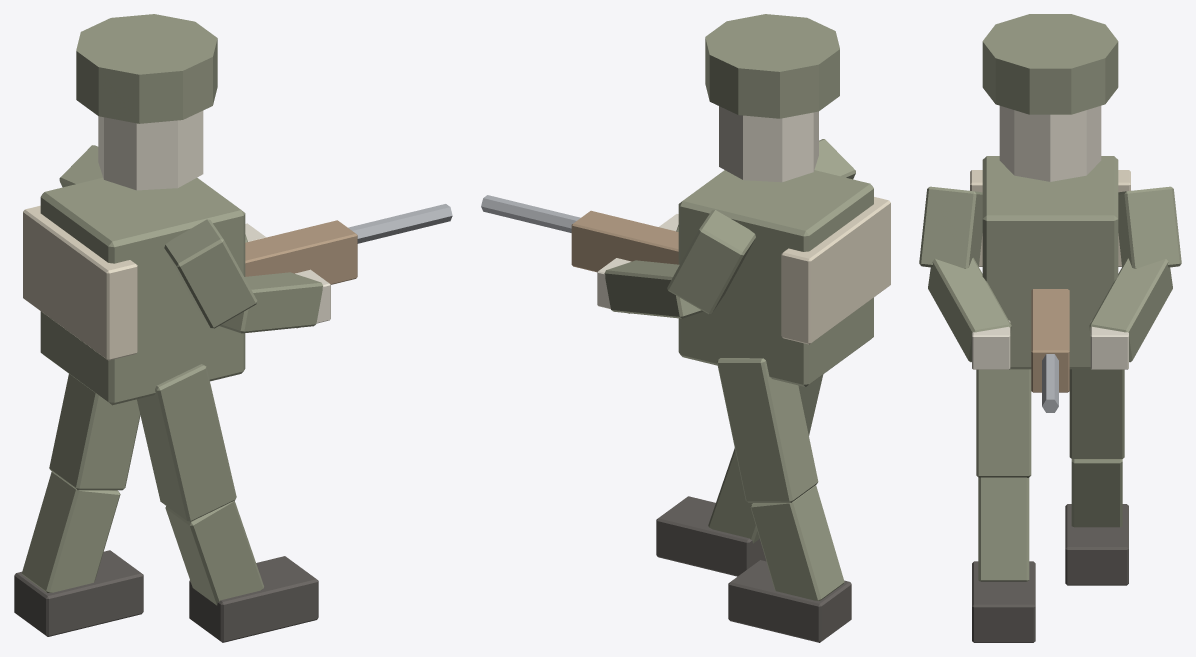
The model's file is infantry_walk_1.glb.
3 views of the same model, side by side, from view 1: azimuth 30°, elevation 25°; view 2: azimuth 150°, elevation 25°; view 3: azimuth 270°, elevation 25° (orthographic). The views are drawn at different scales.
Visible parts, largest first — view 1: Jacket, Helmet, Webbing, Upper leg, Lower leg.001, Upper leg.001, Face, Boot, Boot.001, Lower leg, Upper sleeve, Rifle stock (+4 smaller); view 2: Jacket, Helmet, Webbing, Upper leg.001, Lower leg.001, Face, Boot.001, Boot, Upper sleeve.001, Rifle stock, Lower sleeve.001, Lower leg (+4 smaller); view 3: Jacket, Helmet, Face, Upper leg, Lower leg, Upper leg.001, Upper sleeve, Upper sleeve.001, Lower sleeve, Lower sleeve.001, Boot, Boot.001 (+6 smaller).
Part boxes in pixels (box(x1,y1,x2,y2)): Jacket: box(40, 177, 245, 405); Helmet: box(76, 14, 217, 123); Webbing: box(23, 205, 137, 360); Upper leg: box(137, 364, 236, 521); Lower leg.001: box(21, 472, 120, 592); Upper leg.001: box(49, 374, 140, 490); Face: box(98, 111, 203, 190); Boot: box(189, 556, 318, 642); Boot.001: box(14, 550, 143, 636); Lower leg: box(165, 501, 263, 605); Upper sleeve: box(164, 219, 257, 328); Rifle stock: box(245, 220, 357, 284); Jacket: box(678, 170, 873, 386); Helmet: box(705, 14, 839, 118); Webbing: box(781, 197, 890, 344); Upper leg.001: box(717, 358, 818, 502); Lower leg.001: box(750, 485, 844, 600); Face: box(719, 106, 818, 182); Boot.001: box(728, 560, 851, 642); Boot: box(656, 496, 766, 576); Upper sleeve.001: box(667, 210, 755, 314); Rifle stock: box(571, 210, 678, 272); Lower sleeve.001: box(604, 260, 703, 318); Lower leg: box(708, 448, 759, 543); Jacket: box(982, 156, 1118, 369); Helmet: box(982, 14, 1118, 114); Face: box(999, 106, 1101, 181); Upper leg: box(976, 369, 1031, 477); Lower leg: box(978, 477, 1029, 581); Upper leg.001: box(1069, 369, 1124, 459); Upper sleeve: box(919, 186, 982, 268); Upper sleeve.001: box(1118, 186, 1181, 268); Lower sleeve: box(928, 257, 1011, 362); Lower sleeve.001: box(1089, 257, 1172, 362); Boot: box(972, 561, 1035, 642); Boot.001: box(1065, 504, 1128, 585).
Bounding box in the file's own units: 0.1005 × 0.141 × 0.0619.
